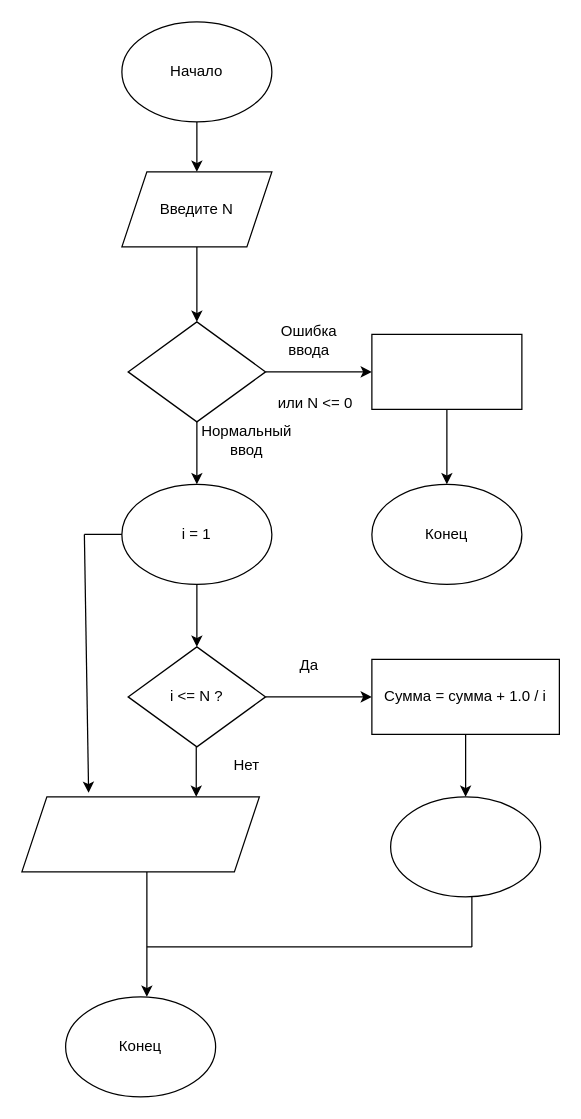
Image size: 581x1119. Some labels were removed from this diagram. The box of each missing label's shape, as (x1, y1, x2, y2) in pixels:
i = i + 1: (389, 796, 541, 897)
Вывести ошибку: (371, 333, 522, 409)
Вывести сумма: (21, 796, 259, 872)
скан N?: (127, 321, 266, 422)
